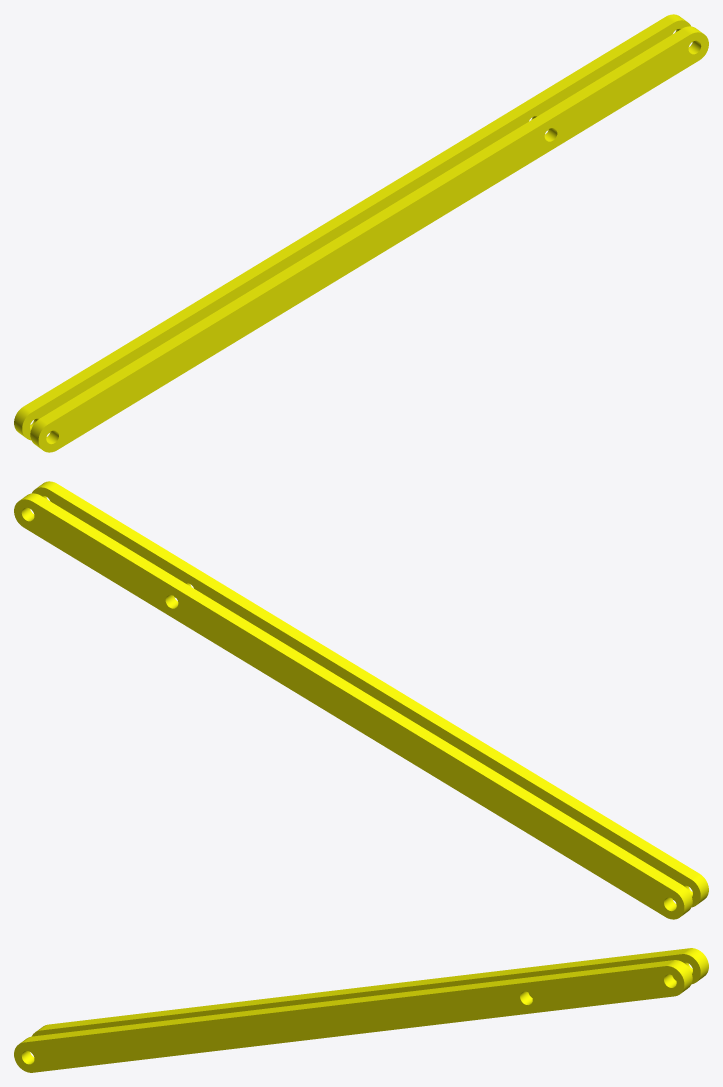
3 renders of one model, top to bottom at view 1: azimuth 30°, elevation 25°; view 2: azimuth 150°, elevation 25°; view 3: azimuth 330°, elevation 25°, orthographic.
Bounding box in the file's own units: 0.9057 × 0.3392 × 0.0574.
